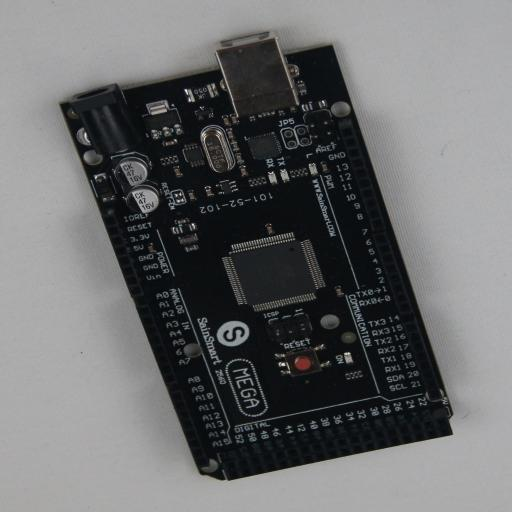Arduino Mega 2560 -Black-: (59, 32, 453, 480)
